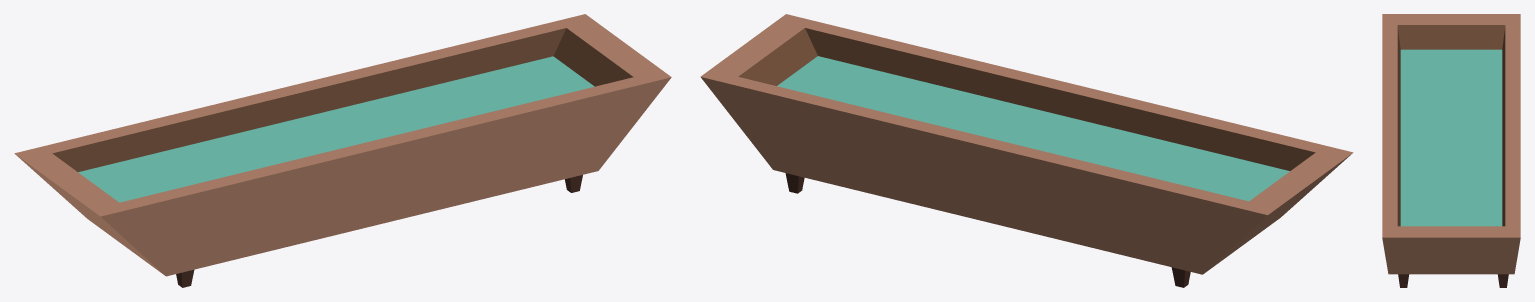
The model's file is drinking_trough_water.glb.
3 renders of one model, left to right at view 1: azimuth 30°, elevation 25°; view 2: azimuth 150°, elevation 25°; view 3: azimuth 270°, elevation 25°, orthographic. The views are drawn at different scales.
Visible parts, largest first — view 1: drinking_trough_water; view 2: drinking_trough_water; view 3: drinking_trough_water.
Boxes of the visible parts, x1,y1,x2,y2 form: drinking_trough_water: (14,14,671,287); drinking_trough_water: (700,14,1353,287); drinking_trough_water: (1382,14,1520,287).
Size of the model in its own units: 9.05 by 1.55 by 2.37.
1 material, 1 textured.
